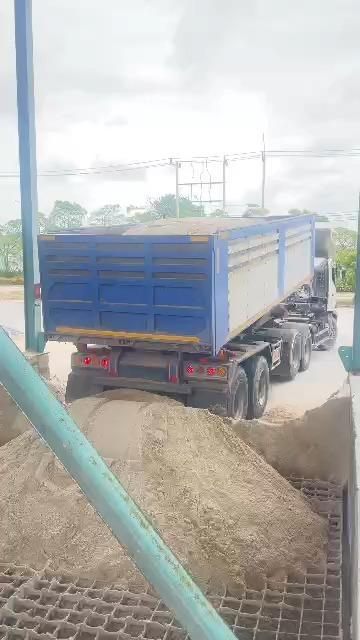sand: (69, 392, 325, 592), (0, 431, 140, 584), (234, 388, 350, 485), (123, 217, 266, 235), (0, 385, 29, 446), (43, 377, 64, 403)
